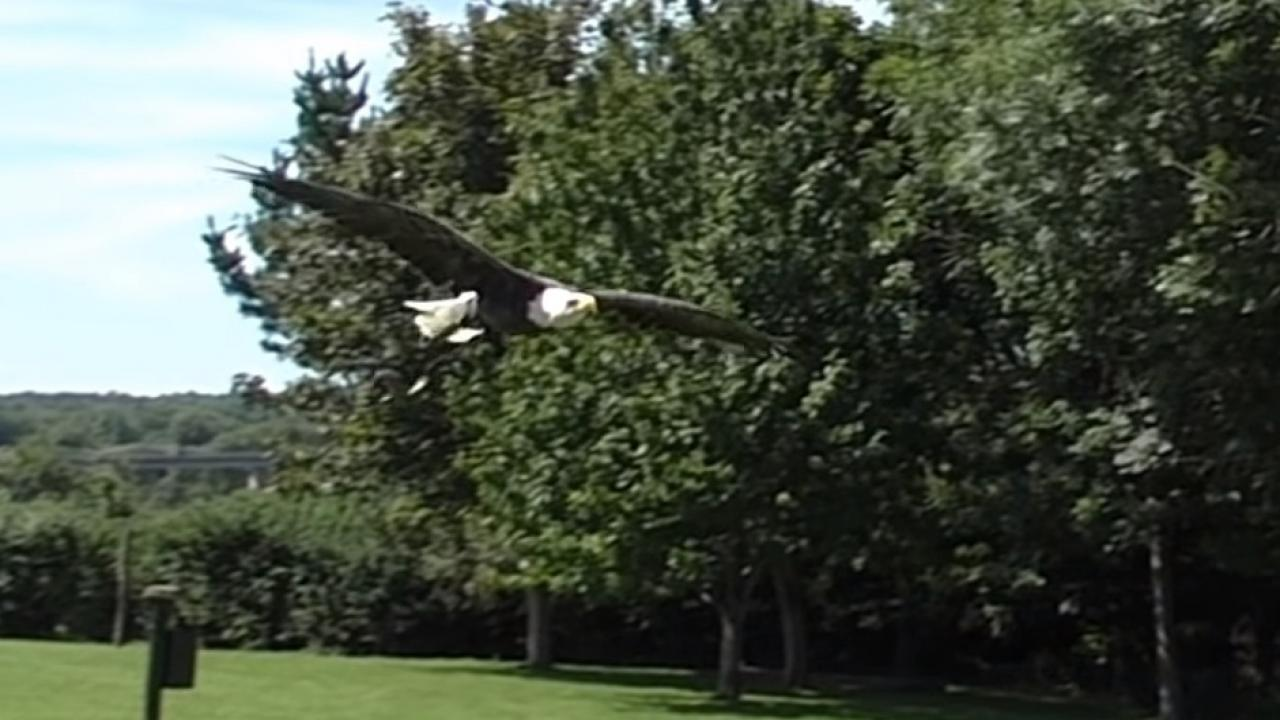Bird: (203, 142, 804, 374)
